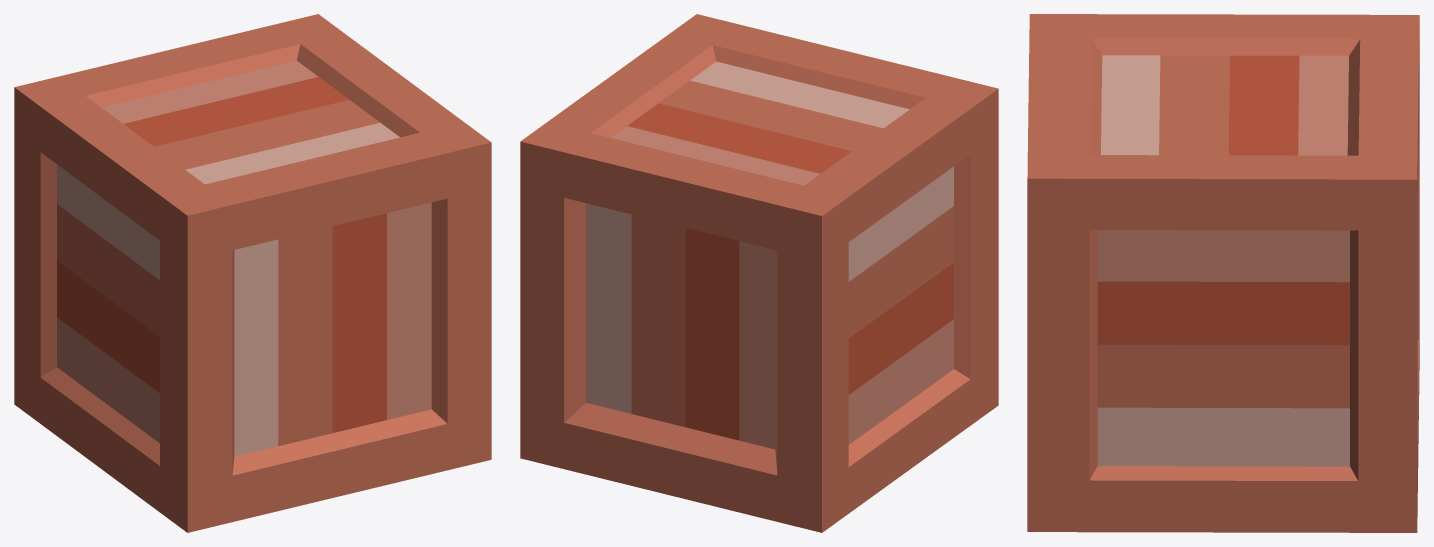
Rendered from props_021.glb.
3 renders of one model, left to right at view 1: azimuth 30°, elevation 25°; view 2: azimuth 150°, elevation 25°; view 3: azimuth 270°, elevation 25°, orthographic. The views are drawn at different scales.
Parts seen in each view (by area): view 1: props_021; view 2: props_021; view 3: props_021.
Part boxes in pixels (x1,y1,x2,y2): props_021: [14, 14, 491, 532]; props_021: [520, 14, 998, 532]; props_021: [1027, 14, 1419, 532].
Bounding box in the file's own units: 1.2 × 1.19 × 1.2.
1 material, 1 textured.
